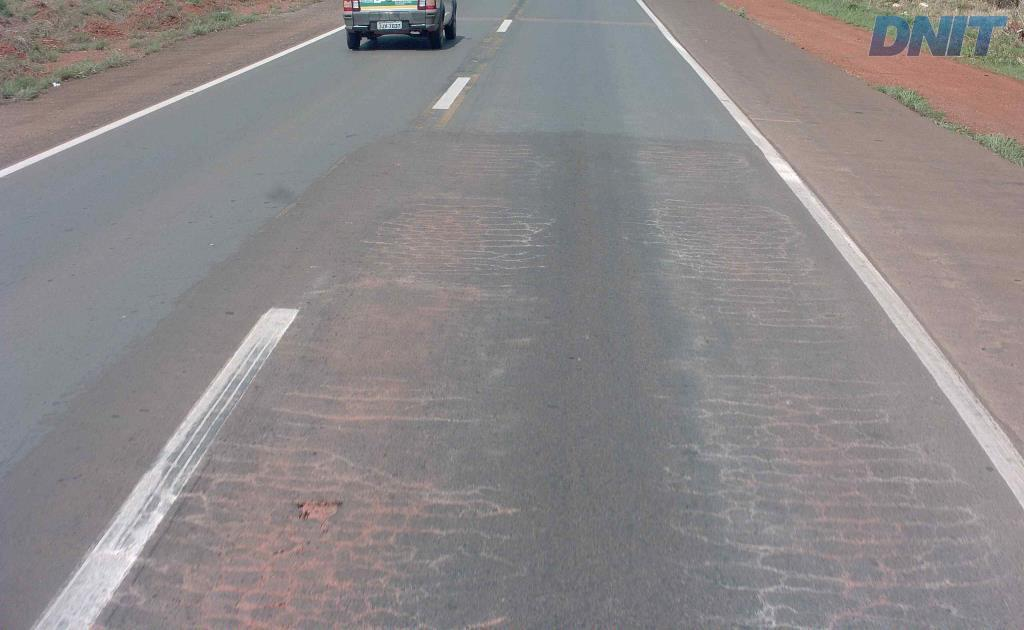pothole: (290, 491, 349, 534)
